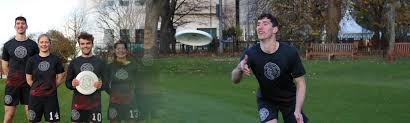disc: (172, 29, 215, 53), (75, 71, 101, 97)
